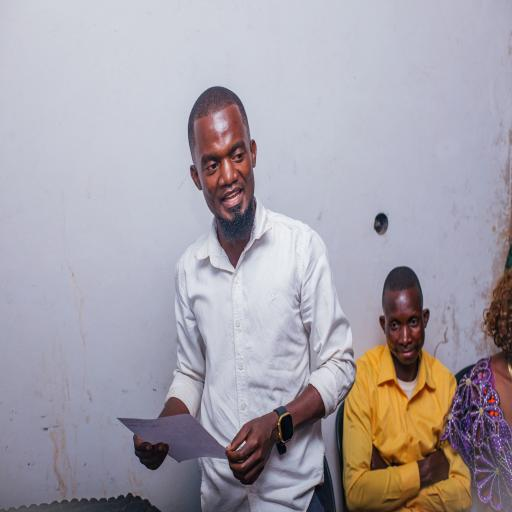MATTHIEU: (177, 77, 266, 241)
